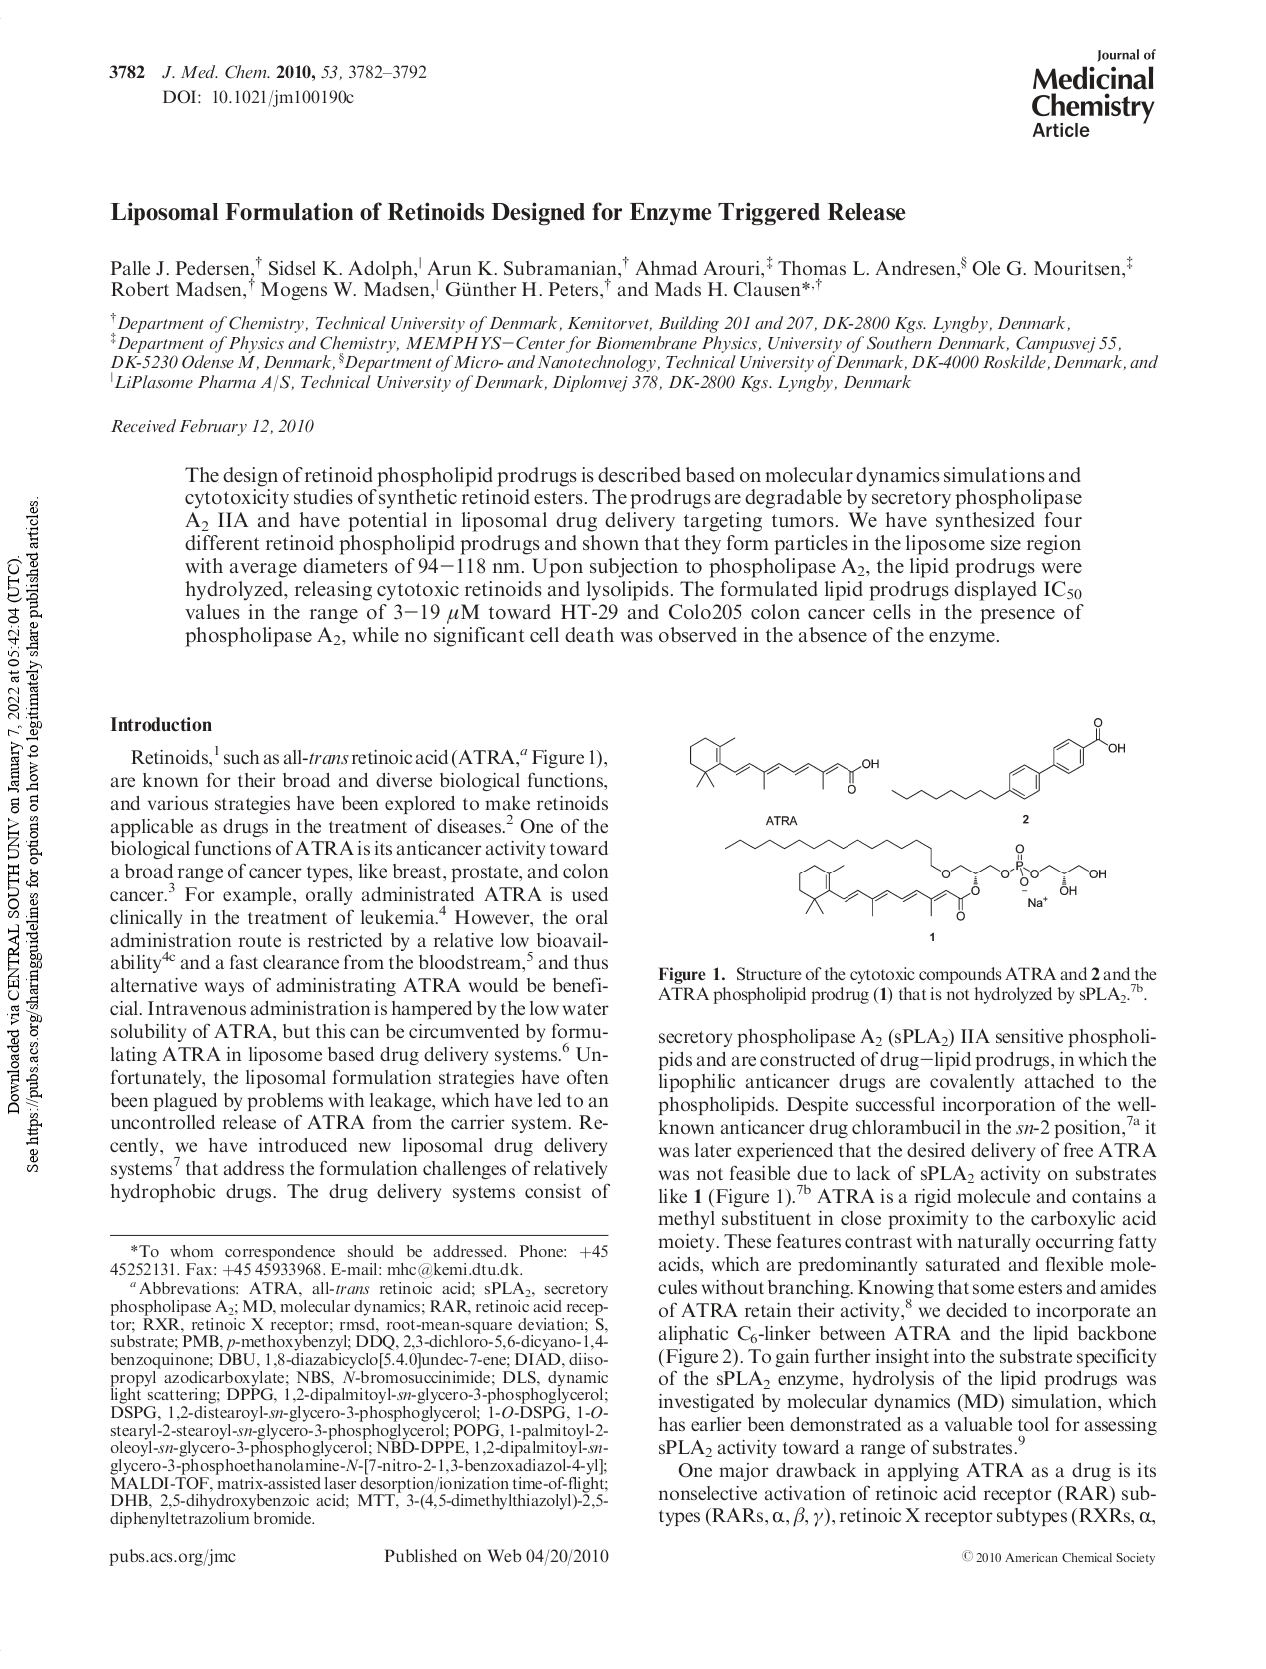exist_molecular: (719, 833, 1109, 918), (887, 707, 1136, 817), (678, 717, 880, 810)
